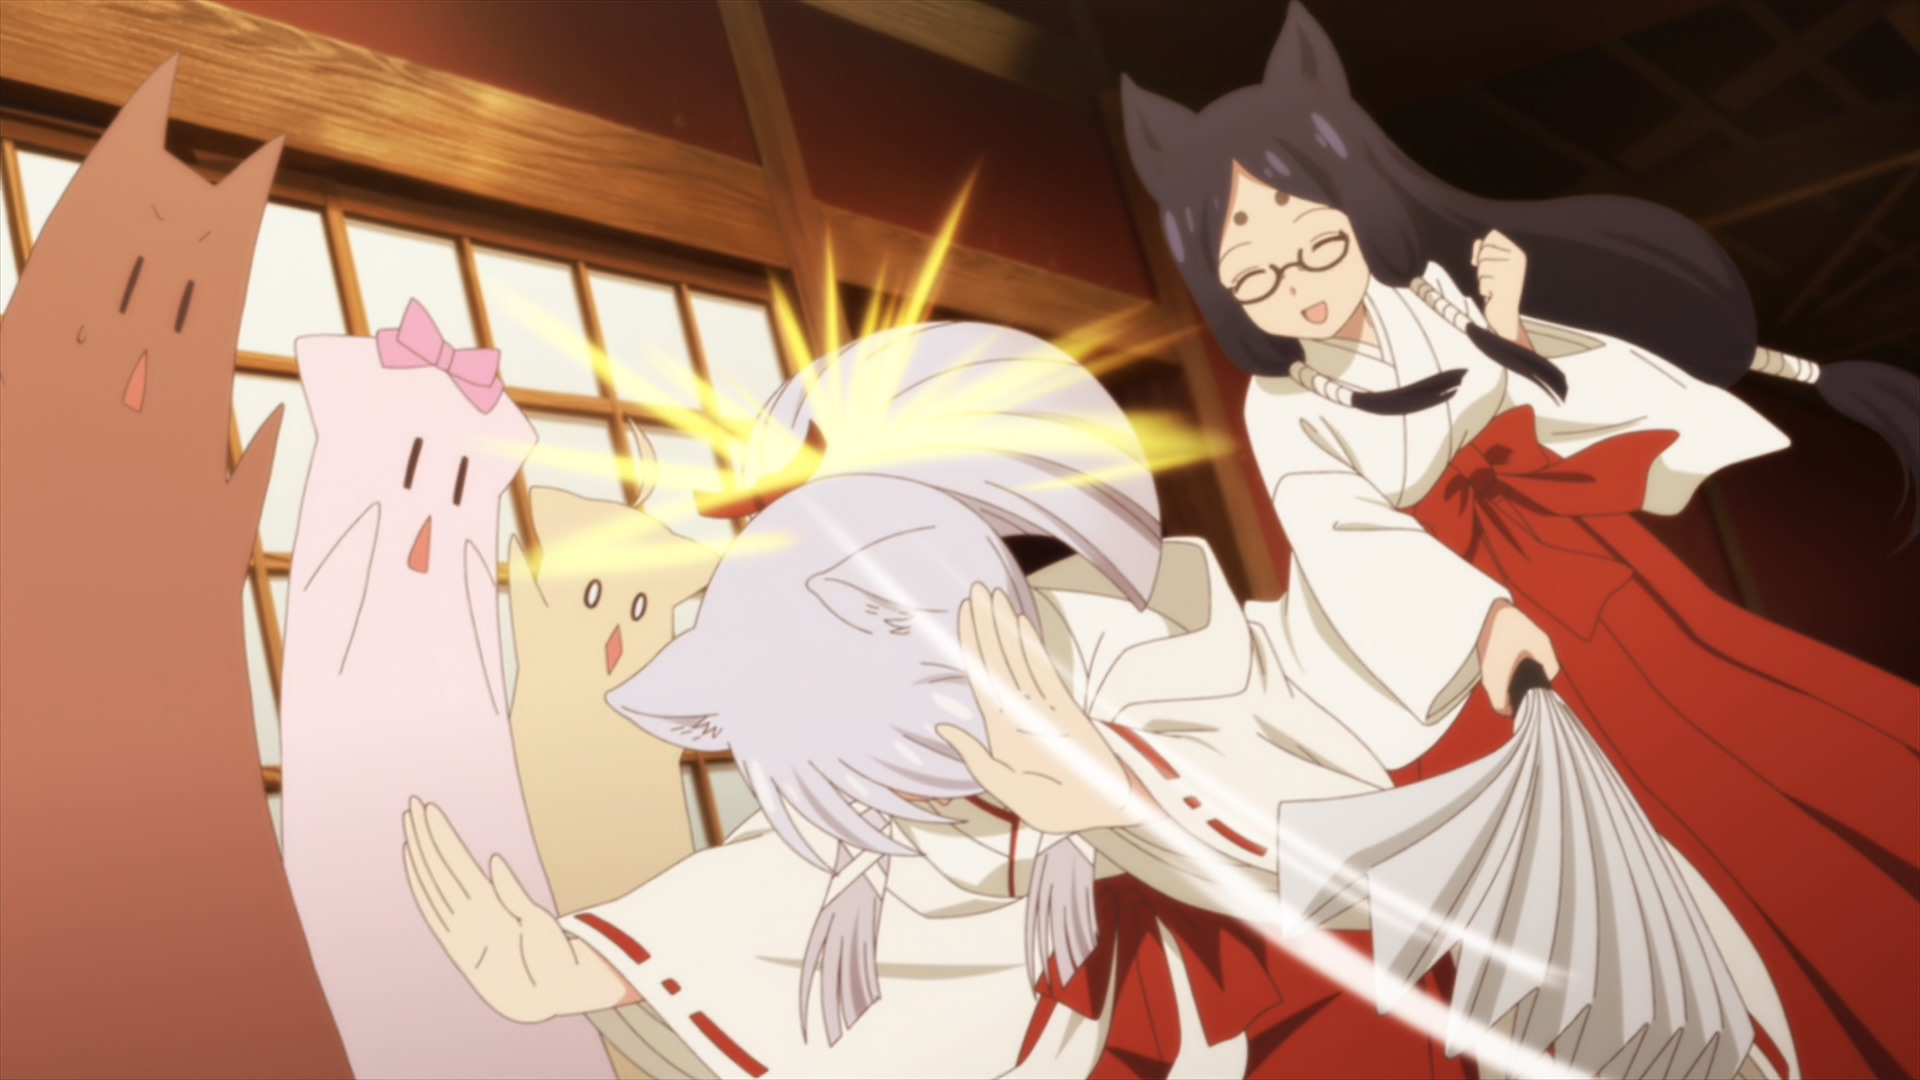枣: (1, 51, 356, 1080)
柊: (405, 322, 1487, 1080)
柚: (509, 419, 727, 1080)
莲: (280, 301, 620, 1080)
菖: (1120, 1, 1920, 1080)
